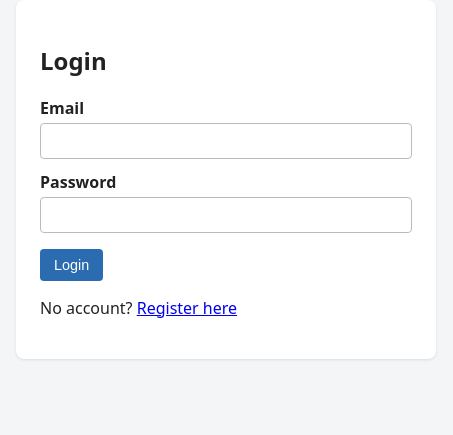
Test case: LoginPage › shows the error when login fails
The width and height of the screenshot is (453, 435).
In the field labelled "Email": (226,141) [40,123,412,159], type "jane@library.com"
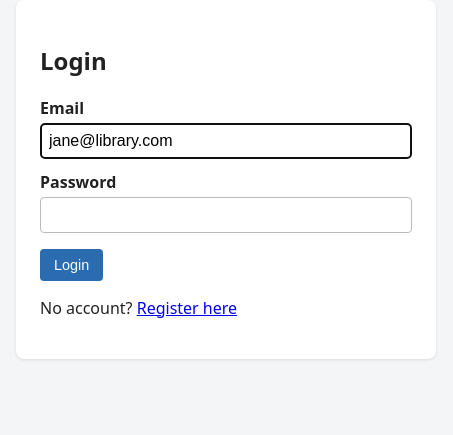
In the password field labelled "Password": (226,215) [40,197,412,233], type "wrong"
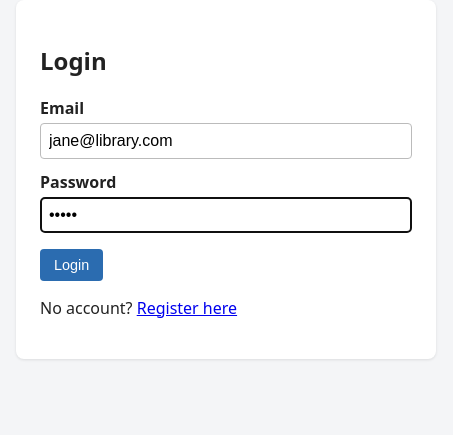
Click the button "Login": (72,265) [40,249,103,281]
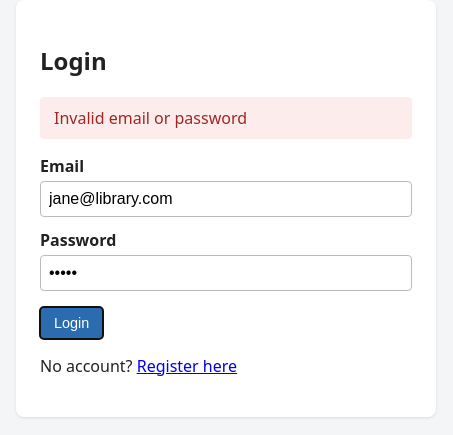
Check: the message reads "Invalid email or password", box [54,107,247,129]
